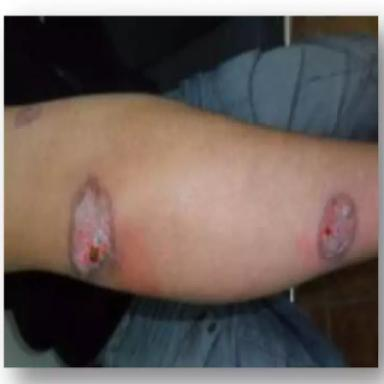Leishmanios: (70, 178, 115, 273), (319, 193, 355, 258)
